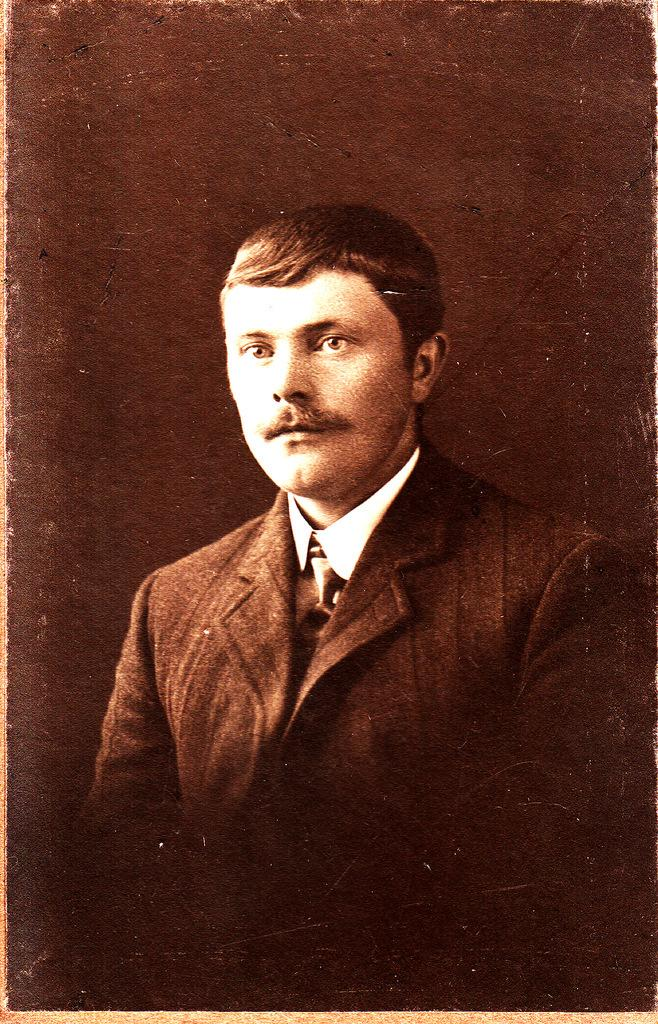Sem Máscara: (227, 265, 405, 503)
